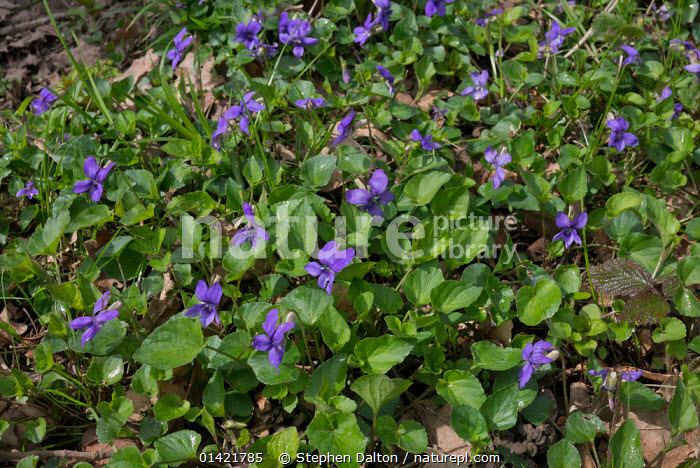violet: (236, 15, 323, 68), (340, 171, 405, 225), (247, 309, 298, 375), (183, 278, 237, 336), (73, 292, 123, 344), (303, 239, 353, 288), (219, 90, 267, 141), (475, 148, 523, 197), (545, 209, 590, 252), (72, 158, 111, 206), (516, 341, 558, 385), (607, 113, 641, 156), (28, 83, 64, 122), (159, 33, 198, 68)
